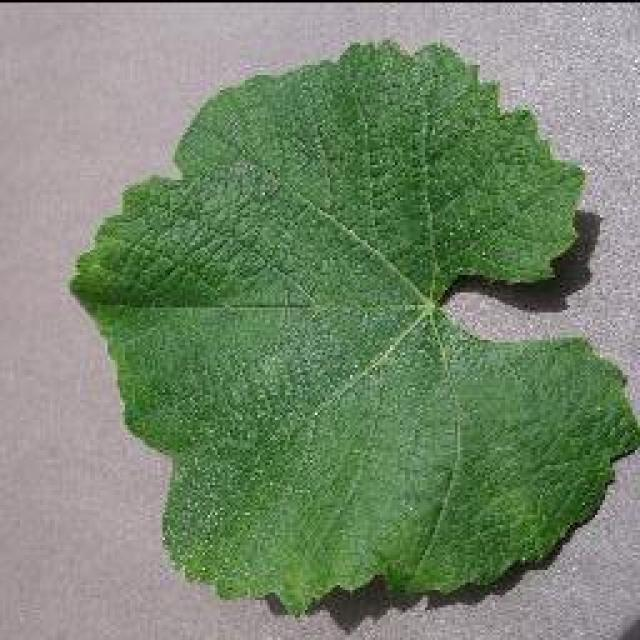Grape___healthy: (72, 42, 638, 612)
